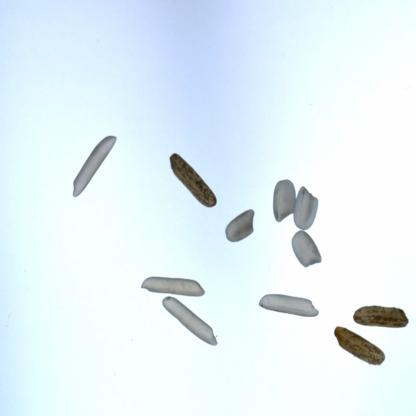Full: (56, 118, 124, 202), (155, 134, 218, 212), (162, 284, 218, 362), (327, 318, 387, 368), (258, 284, 322, 325), (135, 268, 209, 302), (349, 297, 412, 334), (216, 205, 262, 247), (286, 224, 325, 268), (290, 181, 323, 231), (269, 175, 298, 223)
